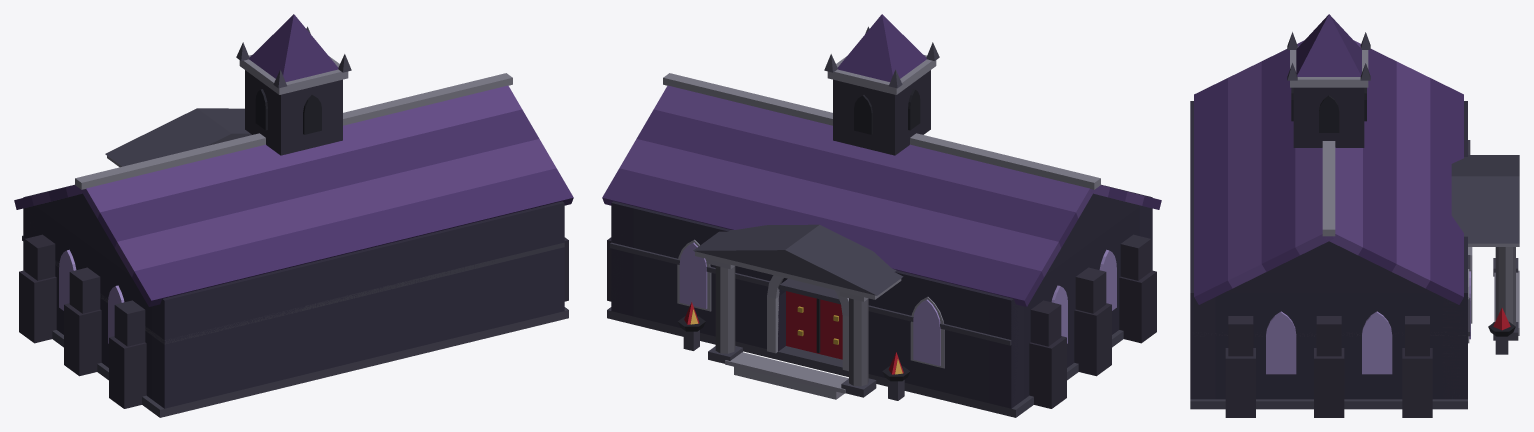
Rendered from Decor_VampireCrypt_Crypt.fbx.
3 views of the same model, side by side, from view 1: azimuth 30°, elevation 25°; view 2: azimuth 150°, elevation 25°; view 3: azimuth 270°, elevation 25° (orthographic).
Parts seen in each view (by area): view 1: Crypt_Body; view 2: Crypt_Body; view 3: Crypt_Body.
Boxes of the visible parts, left/top/right/bottom form: Crypt_Body: left=14, top=14, right=573, bottom=417; Crypt_Body: left=602, top=14, right=1161, bottom=417; Crypt_Body: left=1190, top=14, right=1519, bottom=417.
Bounding box in the file's own units: 40 × 26 × 26.1.
